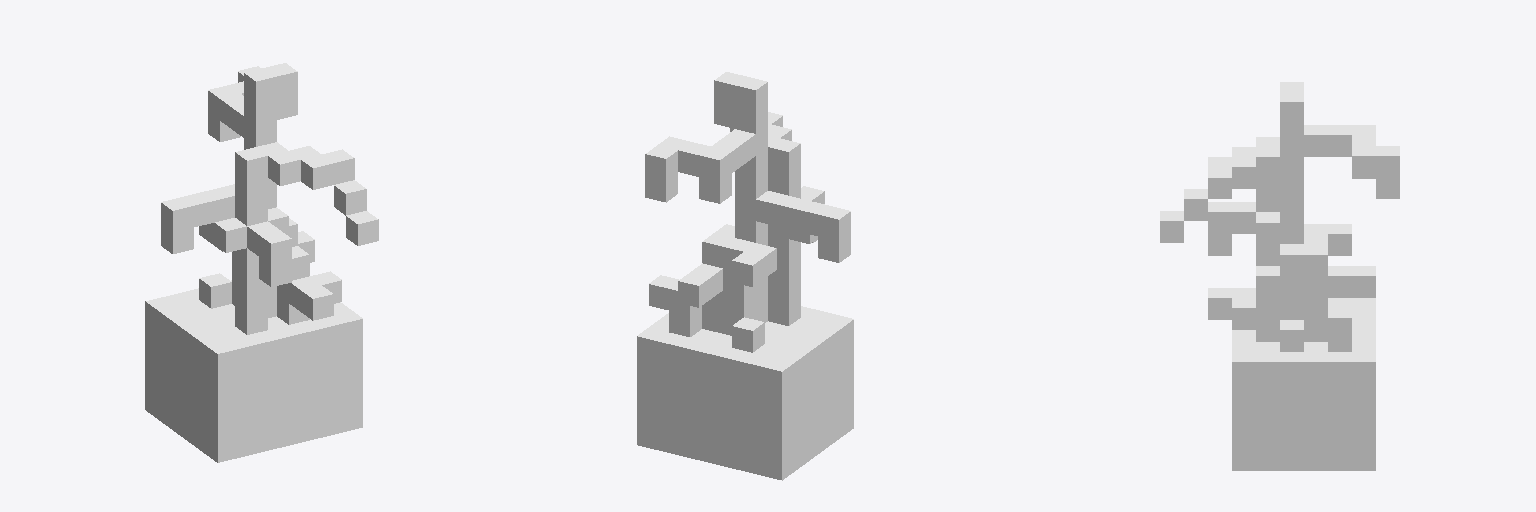
File: plant3.obj
The picture shows the model from 3 angles: view 1: azimuth 30°, elevation 25°; view 2: azimuth 150°, elevation 25°; view 3: azimuth 270°, elevation 25°; orthographic projection.
Bounding box in the file's own units: 0.4 × 0.8 × 0.5.